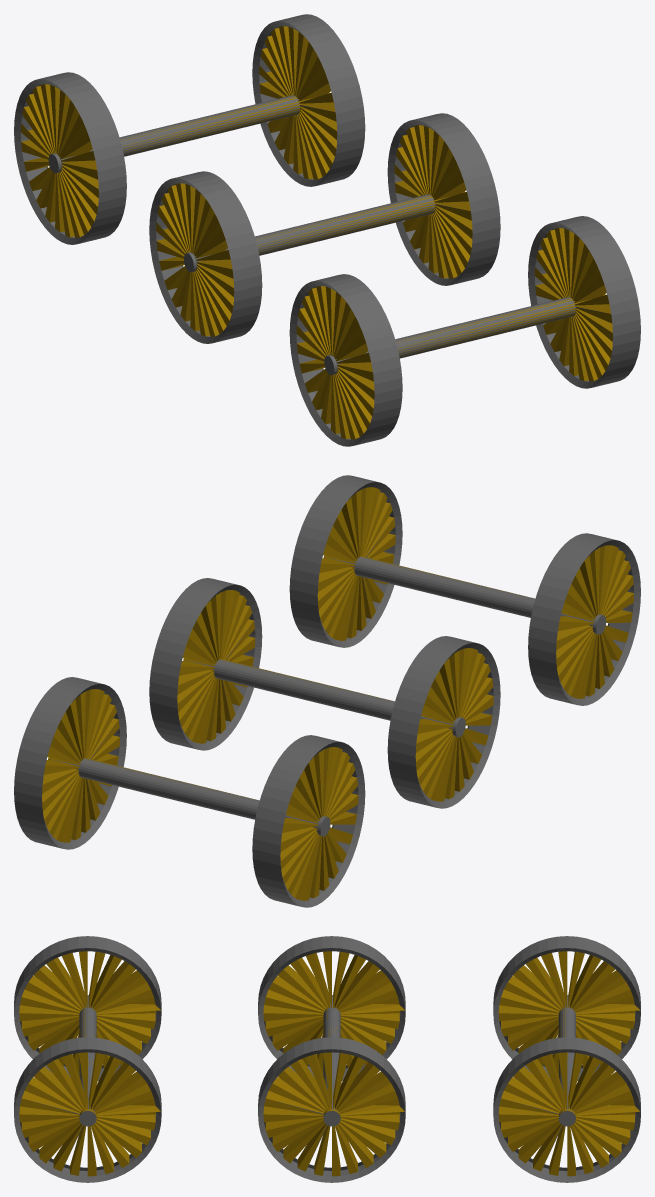
Rendered from lbscr-a1-wheelset.dae.
The picture shows the model from 3 angles, top to bottom: view 1: azimuth 30°, elevation 25°; view 2: azimuth 150°, elevation 25°; view 3: azimuth 270°, elevation 25°; orthographic projection. The views are drawn at different scales.
Visible parts, largest first — view 1: Loco-Wheels-5Ft_000_001, Loco-Wheels-5Ft_000_002, Loco-Wheels-5Ft_000; view 2: Loco-Wheels-5Ft_000_001, Loco-Wheels-5Ft_000, Loco-Wheels-5Ft_000_002; view 3: Loco-Wheels-5Ft_000_002, Loco-Wheels-5Ft_000, Loco-Wheels-5Ft_000_001.
Part boxes in pixels (left/top/right/bottom): Loco-Wheels-5Ft_000_001: left=149, top=113, right=500, bottom=343; Loco-Wheels-5Ft_000_002: left=14, top=14, right=365, bottom=244; Loco-Wheels-5Ft_000: left=289, top=216, right=640, bottom=446; Loco-Wheels-5Ft_000_001: left=149, top=578, right=500, bottom=808; Loco-Wheels-5Ft_000: left=289, top=475, right=640, bottom=705; Loco-Wheels-5Ft_000_002: left=14, top=677, right=365, bottom=907; Loco-Wheels-5Ft_000_002: left=493, top=936, right=640, bottom=1182; Loco-Wheels-5Ft_000: left=14, top=936, right=161, bottom=1182; Loco-Wheels-5Ft_000_001: left=258, top=936, right=405, bottom=1182.
Bounding box in the file's own units: 1.56 × 3.57 × 0.8407.
